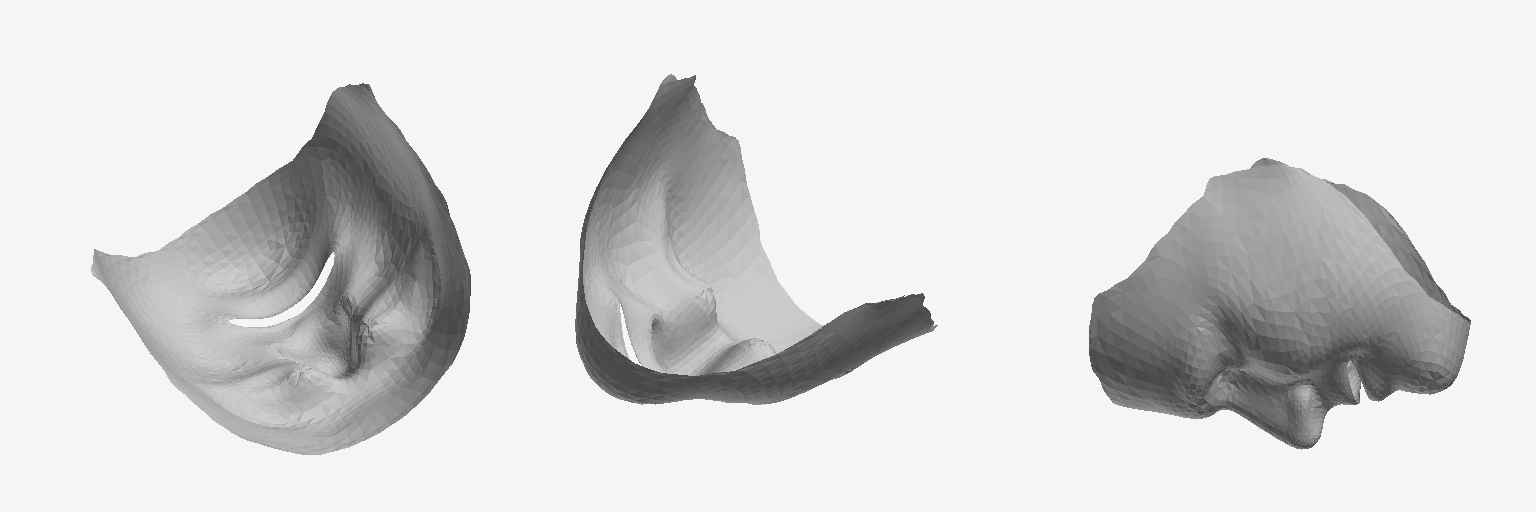
Rendered from face_gab_sfm112.obj.
3 renders of one model, left to right at view 1: azimuth 30°, elevation 25°; view 2: azimuth 150°, elevation 25°; view 3: azimuth 270°, elevation 25°, orthographic.
Size of the model in its own units: 166 by 161 by 185.